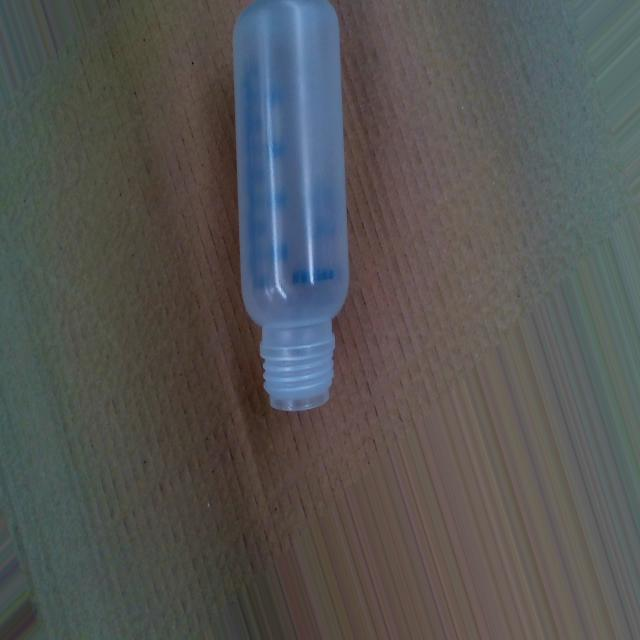bottle: (230, 0, 358, 417)
